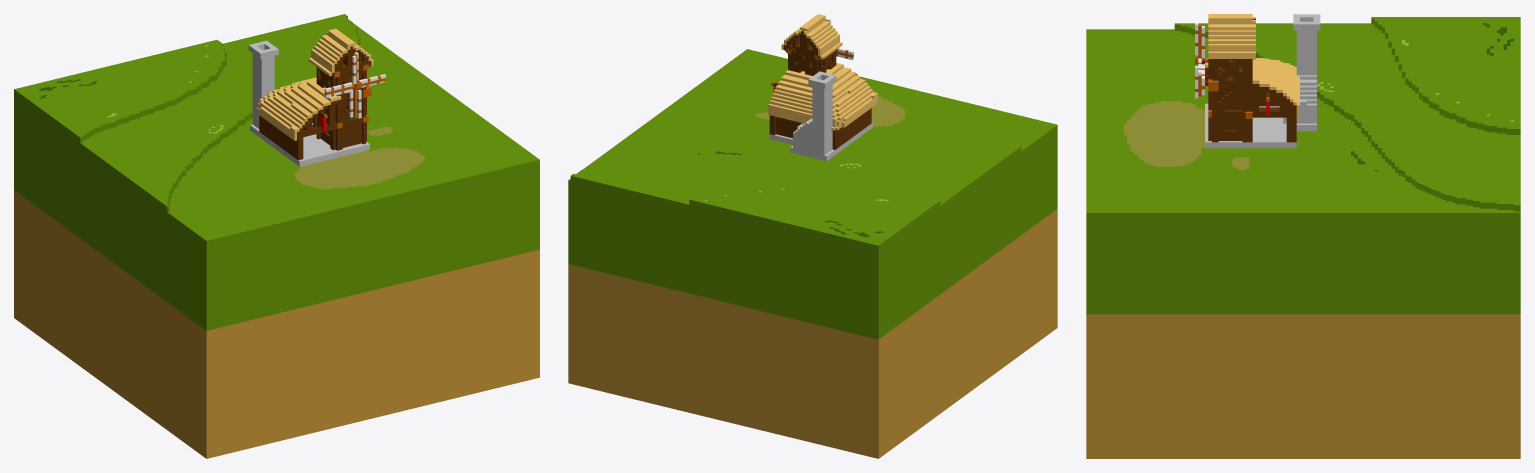
3 views of the same model, side by side, from view 1: azimuth 30°, elevation 25°; view 2: azimuth 150°, elevation 25°; view 3: azimuth 270°, elevation 25° (orthographic). The views are drawn at different scales.
Parts seen in each view (by area): view 1: 10A; view 2: 10A; view 3: 10A.
Part boxes in pixels (<box>): 10A: <box>14,14,539,458</box>; 10A: <box>568,14,1057,458</box>; 10A: <box>1086,14,1520,458</box>.
Bounding box in the file's own units: 12.8 × 12 × 12.8.
Materials: 1 (1 with a texture image).
